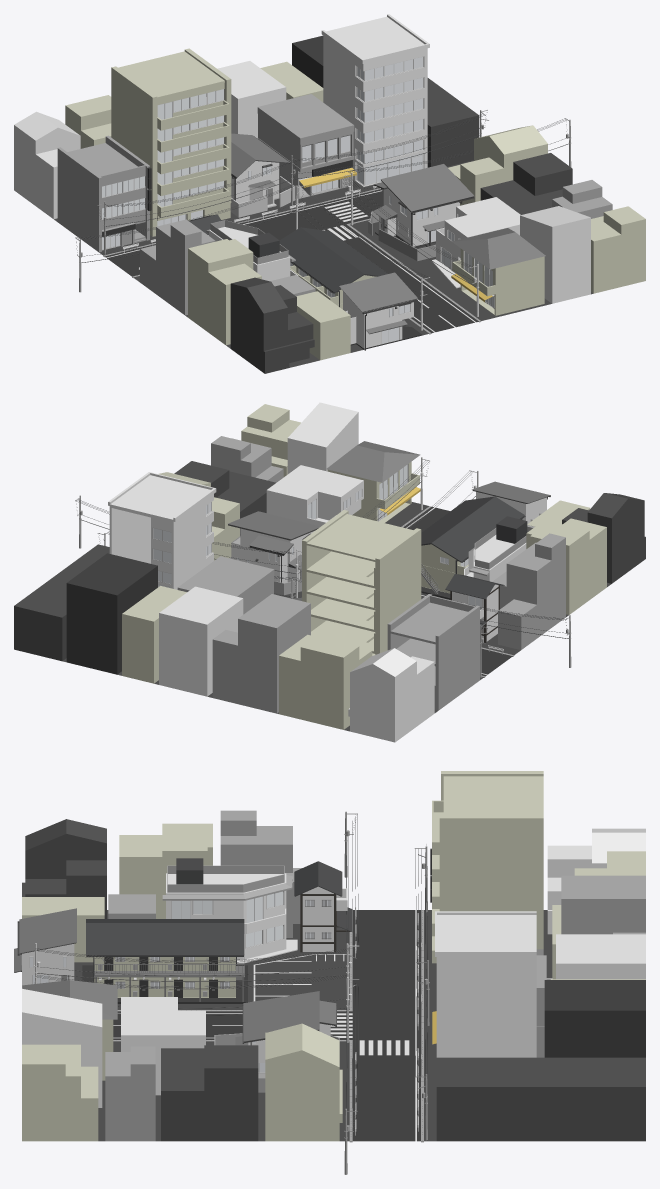
Rendered from street_town 2.glb.
3 renders of one model, top to bottom at view 1: azimuth 30°, elevation 25°; view 2: azimuth 150°, elevation 25°; view 3: azimuth 270°, elevation 25°, orthographic. The views are drawn at different scales.
Size of the model in its own units: 70.84 by 19.75 by 63.37.
